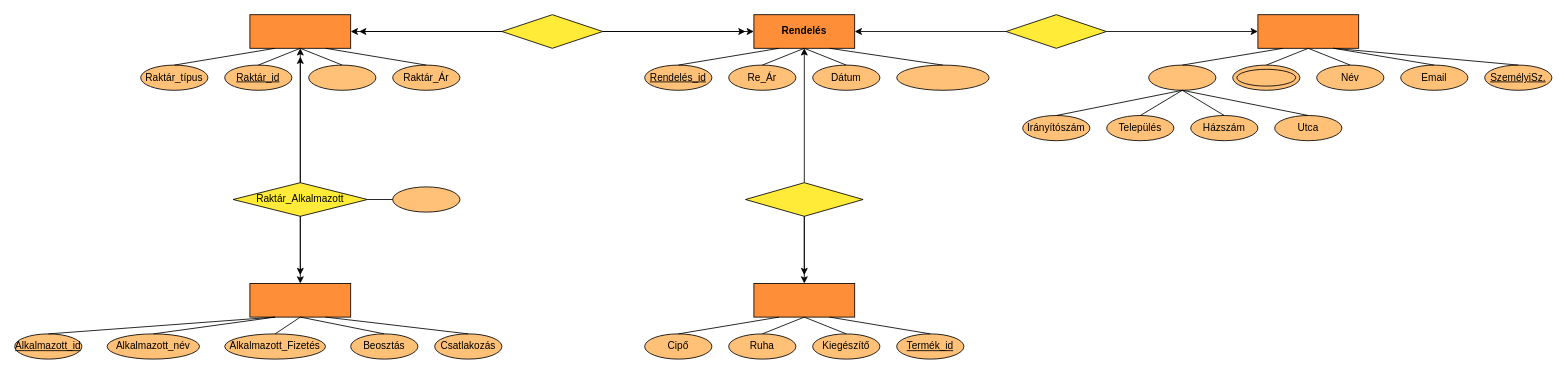
This 1567x374 diagram has some shape labels left out. The centre of each missing label's shape, as x and y in pixels:
"( Cím )" belongs at [1182,77].
"Alkalmazott" belongs at [300,300].
"Elérhető" belongs at [426,199].
"Ra_Darabszám" belongs at [342,77].
"Raktár" belongs at [300,31].
"Raktár_Rendelés" belongs at [552,31].
"Rendelés_Fizetés" belongs at [942,77].
"Rendelés_Termék" belongs at [804,199].
"Rendelés_Vevő" belongs at [1055,31].
"Telefonszám" belongs at [1266,77].
"Termék" belongs at [804,300].
"Vevő" belongs at [1308,31].
